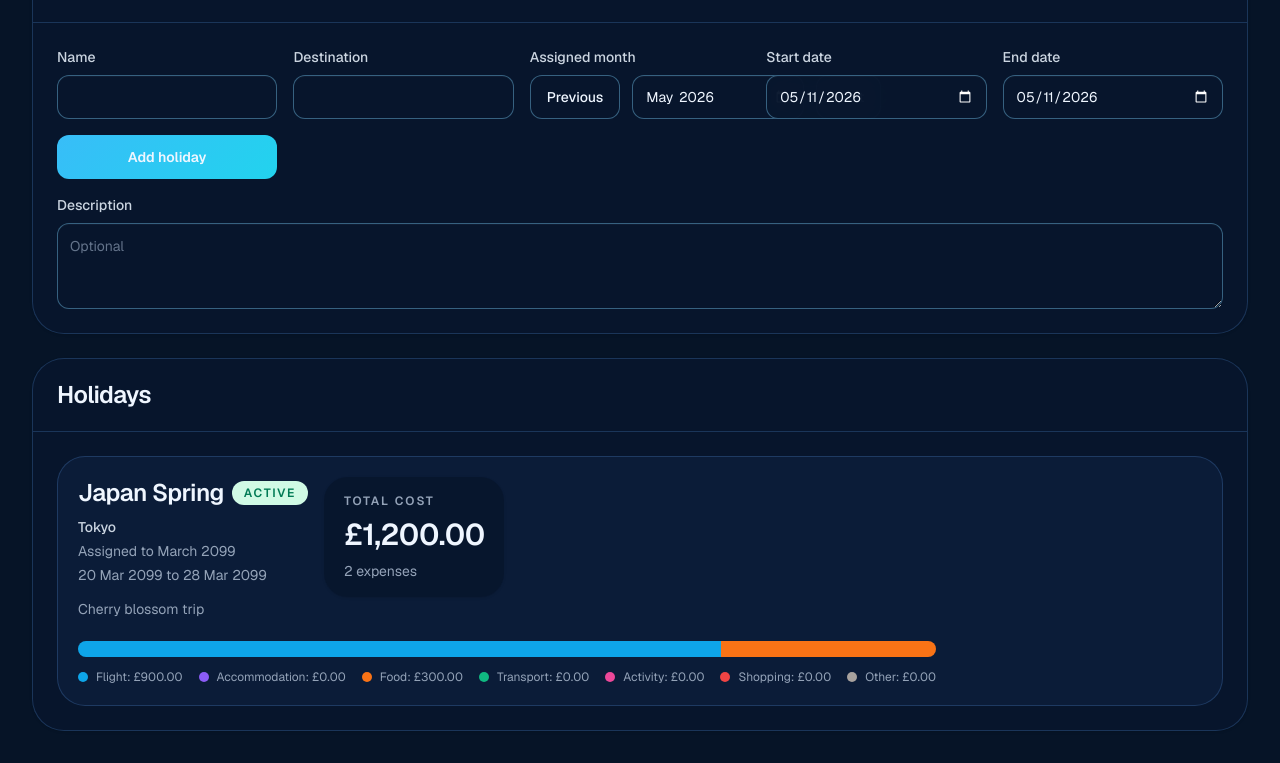
Test: [Component] holidays page › should load holiday details when a holiday card is expanded
The image size is (1280, 763).
(page scrolled)
Click the button "Japan Spring". click: [640, 581]
box: [58, 457, 1222, 705]
(page scrolled)
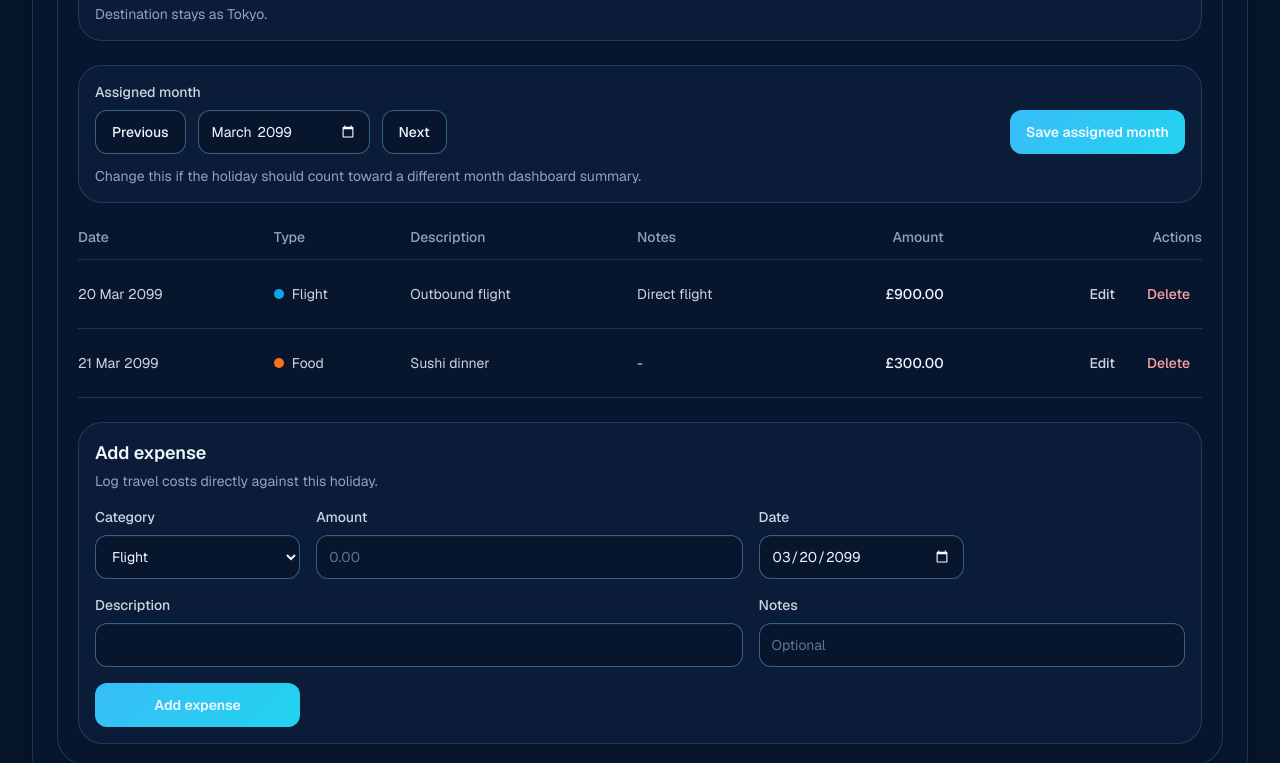
Expected: the text "Outbound flight" is shown, [410, 260, 637, 329]
Expected: the text "Sushi dinner" is shown, [410, 329, 637, 398]
